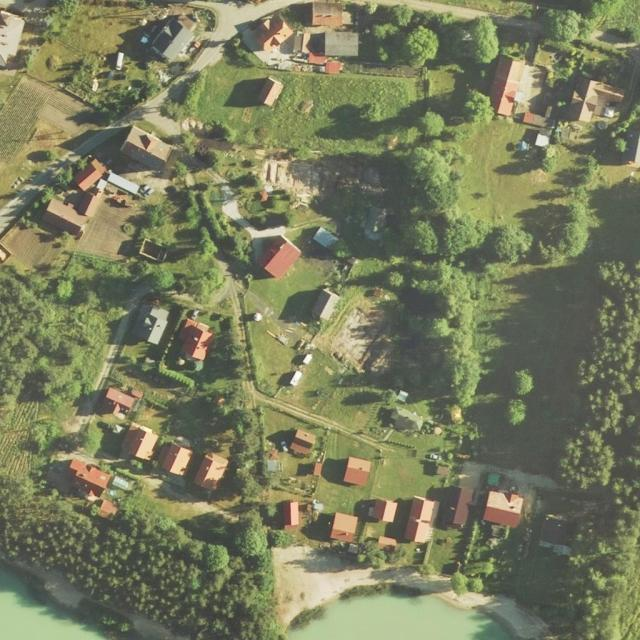building: (39, 151, 122, 243), (239, 10, 362, 67), (489, 54, 550, 118), (564, 72, 626, 134), (149, 9, 201, 65), (119, 125, 175, 174), (61, 454, 113, 501), (254, 233, 302, 281), (129, 300, 173, 347), (403, 495, 438, 545), (119, 424, 161, 464), (438, 484, 475, 529), (192, 449, 229, 493), (483, 490, 524, 527), (154, 440, 193, 478), (0, 10, 25, 66), (99, 385, 138, 420), (309, 286, 341, 323), (342, 455, 373, 488), (255, 75, 285, 109), (329, 512, 360, 544), (105, 171, 142, 197), (367, 495, 398, 524), (289, 428, 317, 459), (138, 238, 170, 265), (311, 1, 343, 27), (311, 225, 339, 252), (282, 501, 299, 529), (98, 498, 118, 520), (522, 111, 549, 127), (287, 368, 306, 389), (377, 536, 399, 552), (111, 475, 131, 492), (535, 134, 551, 149), (300, 352, 314, 366)
dryland: (268, 544, 554, 640)
greenland: (150, 145, 278, 269), (370, 409, 466, 514)
